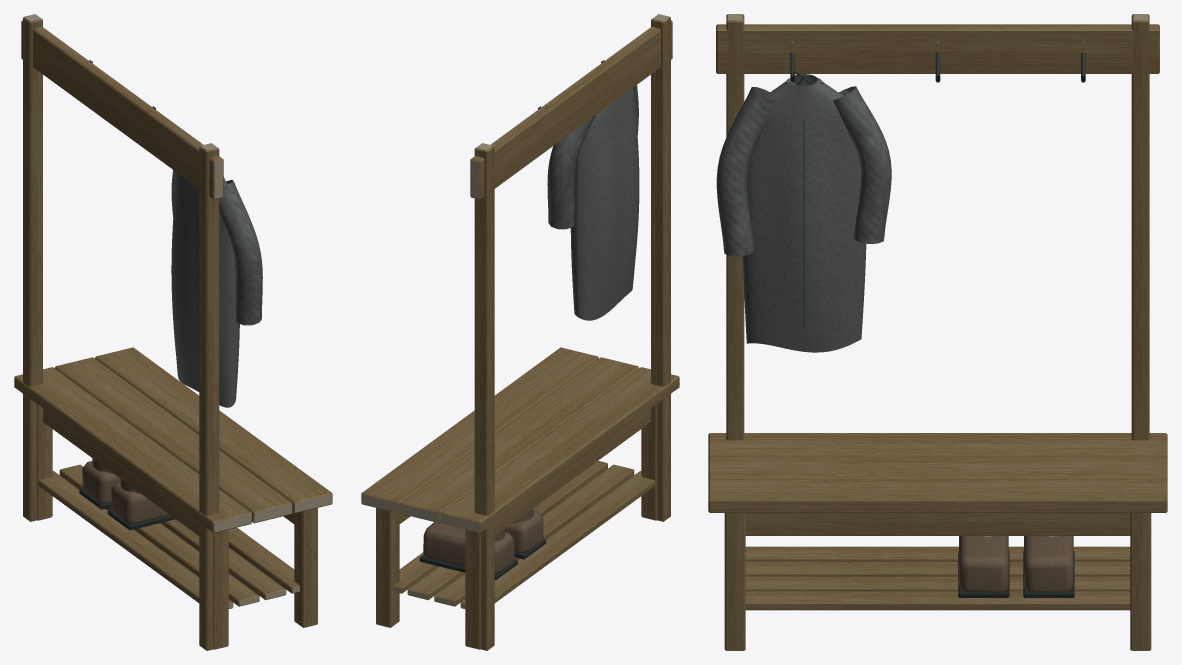
The picture shows the model from 3 angles, left to right: view 1: azimuth 30°, elevation 25°; view 2: azimuth 150°, elevation 25°; view 3: azimuth 270°, elevation 25°; orthographic projection. The views are drawn at different scales.
Visible parts, largest first — view 1: Mesh_warm, Mesh_throw, Mesh_leather, Mesh_endgrain, Mesh_iron; view 2: Mesh_warm, Mesh_throw, Mesh_leather, Mesh_endgrain, Mesh_iron; view 3: Mesh_warm, Mesh_throw, Mesh_leather, Mesh_iron.
Part boxes in pixels (<box>): Mesh_warm: <box>14,17,332,650</box>; Mesh_throw: <box>171,170,262,407</box>; Mesh_leather: <box>82,458,169,523</box>; Mesh_endgrain: <box>24,14,332,649</box>; Mesh_iron: <box>79,60,175,530</box>; Mesh_warm: <box>361,17,679,650</box>; Mesh_throw: <box>547,85,639,320</box>; Mesh_leather: <box>423,508,543,573</box>; Mesh_endgrain: <box>361,14,669,649</box>; Mesh_iron: <box>419,60,604,580</box>; Mesh_warm: <box>708,14,1167,650</box>; Mesh_throw: <box>716,74,891,352</box>; Mesh_leather: <box>959,536,1073,592</box>; Mesh_iron: <box>790,52,1085,597</box>.
Bounding box in the file's own units: 0.417 × 1.66 × 1.2.
Materials: 6 (5 with a texture image).
